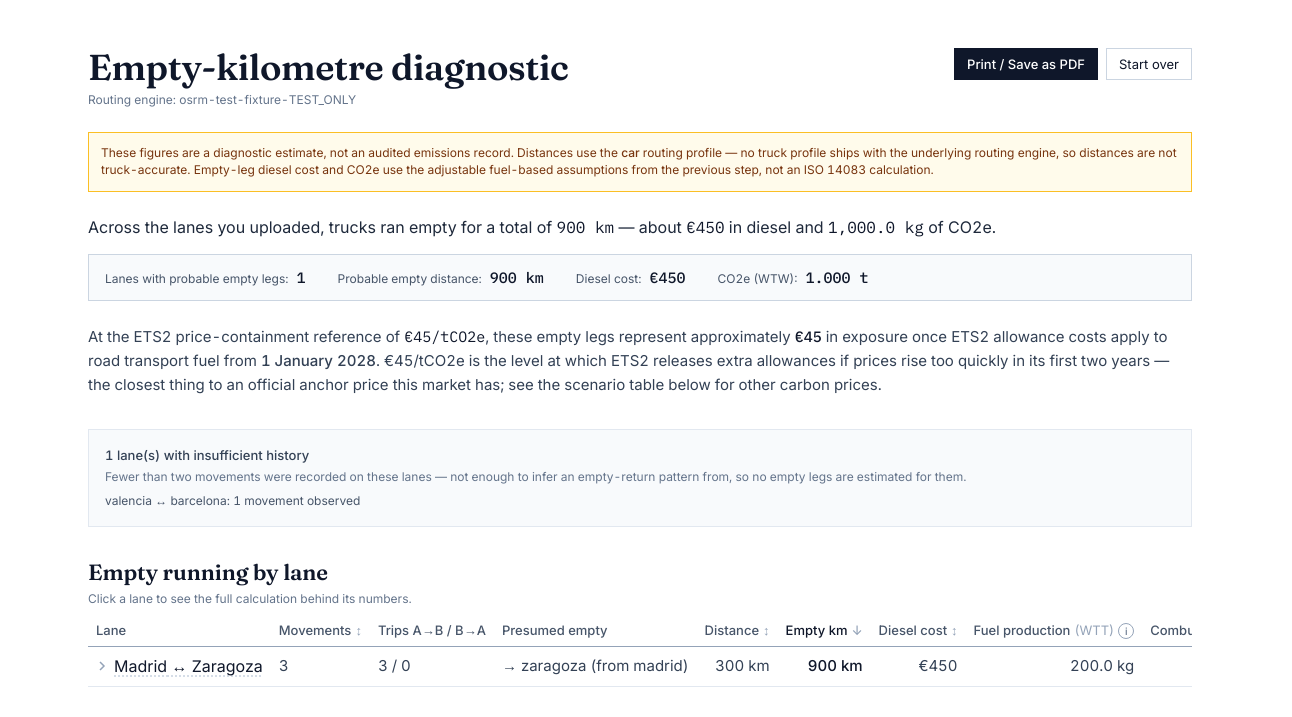
it: ReportView › expands a lane row to show its derivation when clicked
expect the text "WTT + TTW" is not shown: met
What coordinates should you click on to do the following:
click the text "madrid ↔ zaragoza"
I would click on:
 (188, 666)
Its box is [114,654,263,678].
(page scrolled)
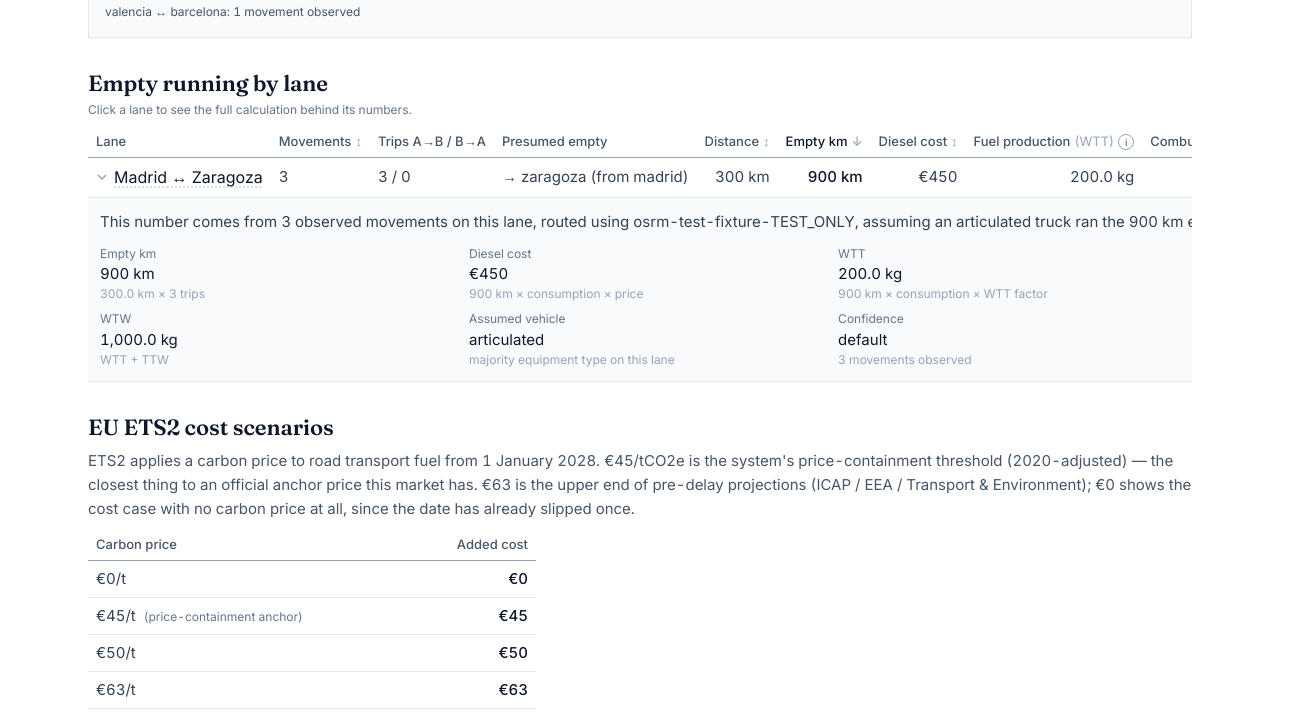
expect the text "WTT + TTW" is shown: met, box [100,352,169,367]
expect the text "majority equipment type on this lane" is shown: met, box [469,352,675,367]
